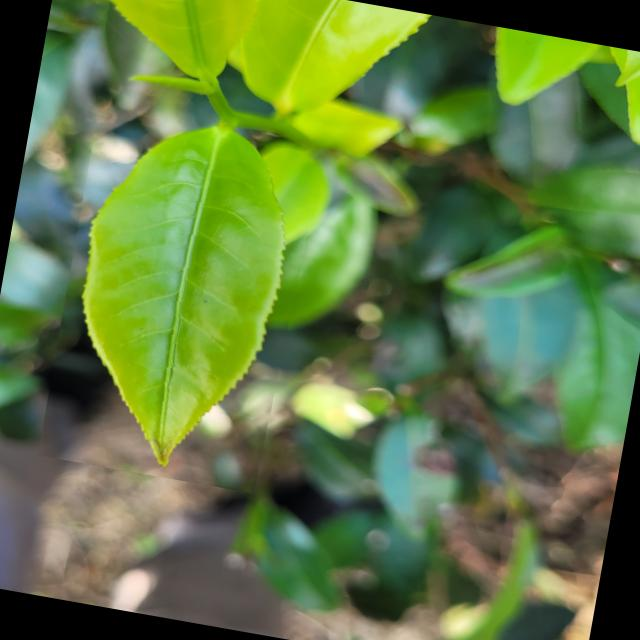Category B(2-4 days): (38, 65, 334, 495)
